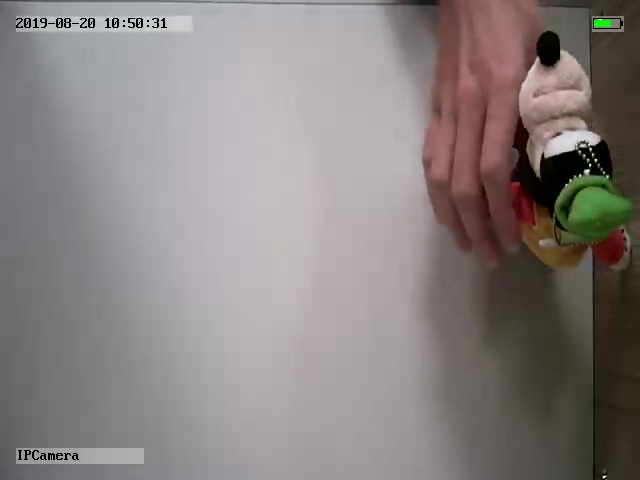goofy: (504, 30, 633, 272)
